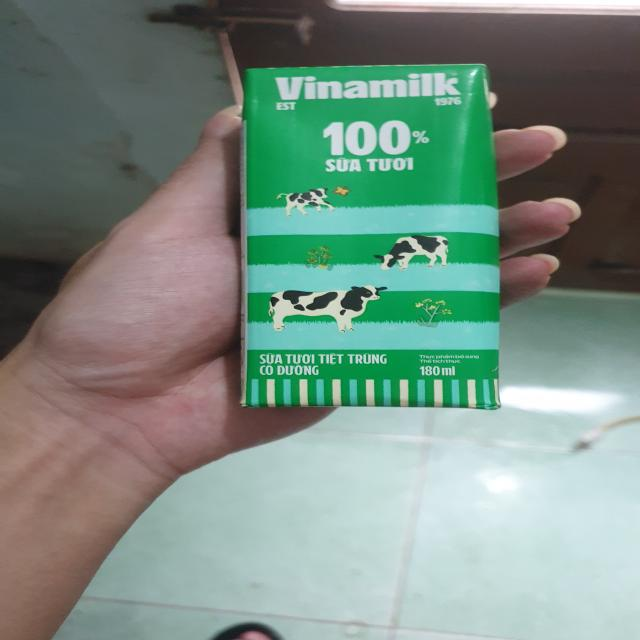Vina: (238, 62, 509, 415)
